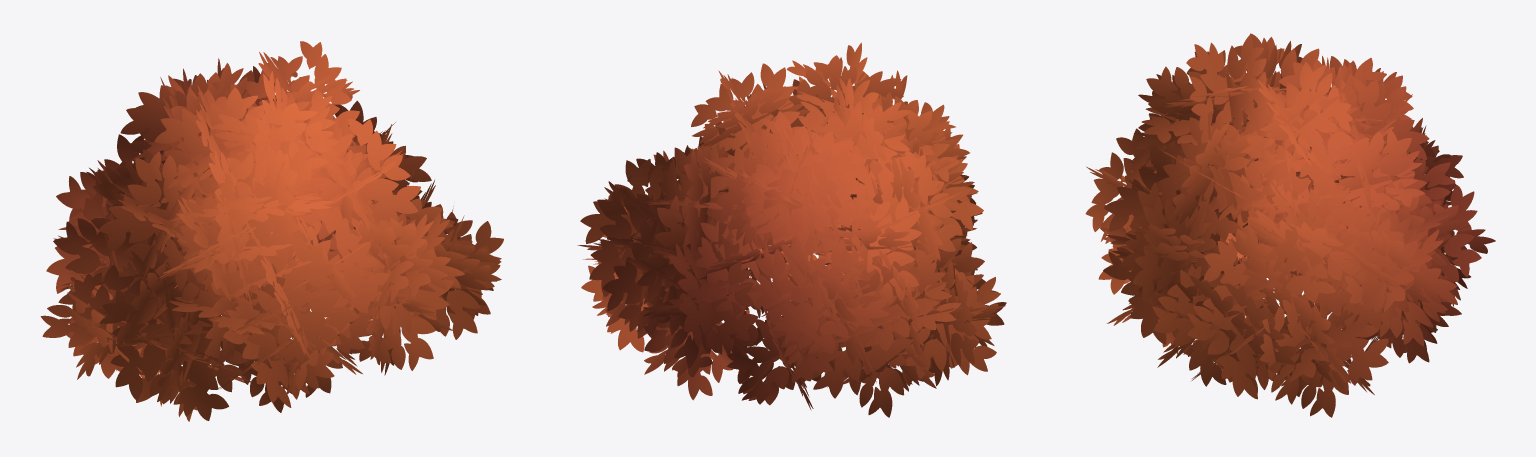
The model's file is bush02-e1rxkvyw.glb.
3 views of the same model, side by side, from view 1: azimuth 30°, elevation 25°; view 2: azimuth 150°, elevation 25°; view 3: azimuth 270°, elevation 25° (orthographic). The views are drawn at different scales.
Visible parts, largest first — view 1: bush02; view 2: bush02; view 3: bush02.
Part boxes in pixels (<box>): bush02: <box>40,41,503,421</box>; bush02: <box>577,42,1006,417</box>; bush02: <box>1085,33,1495,417</box>.
Bounding box in the file's own units: 2.11 × 1.58 × 1.9.
Materials: 1 (1 with a texture image).
